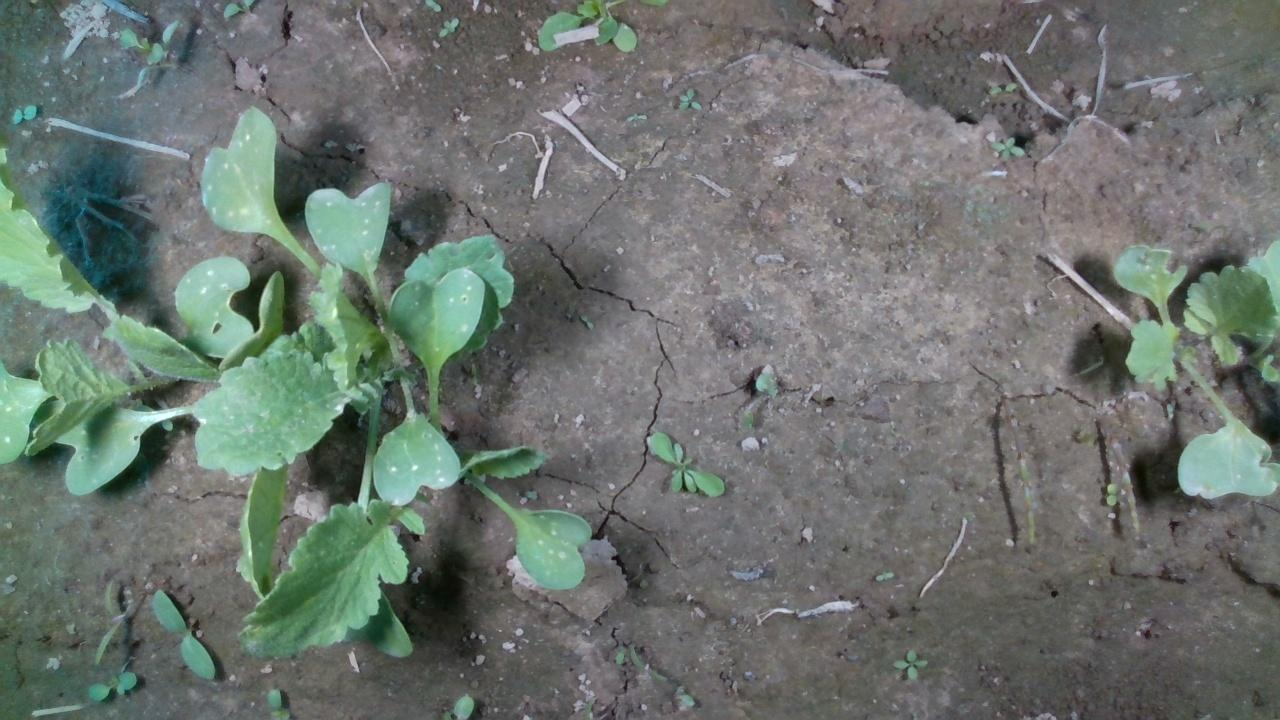weed: (151, 587, 215, 679), (647, 430, 724, 497), (86, 670, 137, 701), (892, 646, 927, 679), (989, 135, 1026, 159), (676, 86, 702, 110), (9, 103, 37, 125), (437, 16, 458, 37), (988, 81, 1017, 94), (1104, 482, 1118, 505), (578, 312, 593, 330), (874, 570, 894, 581)
